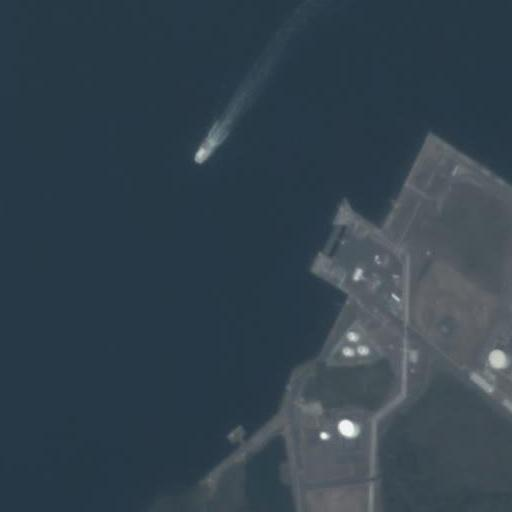person: (194, 147, 209, 165)
